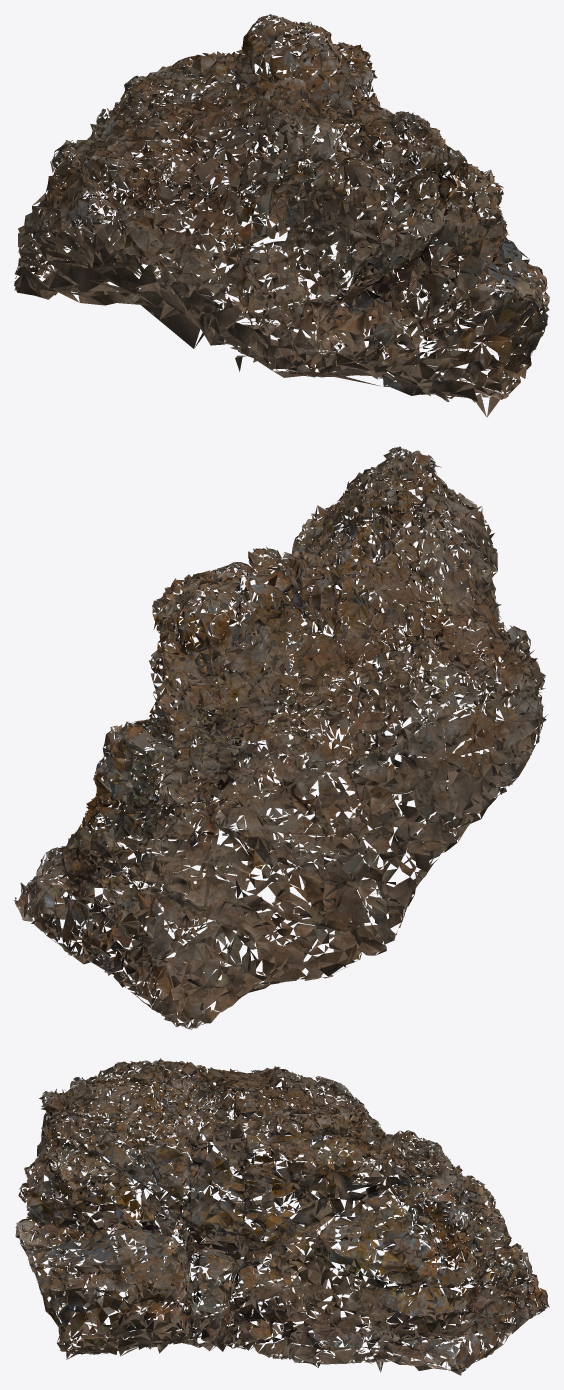
Rendered from rubble_boulder.glb.
3 renders of one model, top to bottom at view 1: azimuth 30°, elevation 25°; view 2: azimuth 150°, elevation 25°; view 3: azimuth 270°, elevation 25°, orthographic. The views are drawn at different scales.
Parts seen in each view (by area): view 1: boulder_01; view 2: boulder_01; view 3: boulder_01.
Boxes of the visible parts, x1,y1,x2,y2 form: boulder_01: [14, 14, 549, 417]; boulder_01: [14, 446, 547, 1029]; boulder_01: [15, 1058, 549, 1375].
Size of the model in its own units: 1.07 by 0.85 by 1.55.
Materials: 1 (1 with a texture image).
